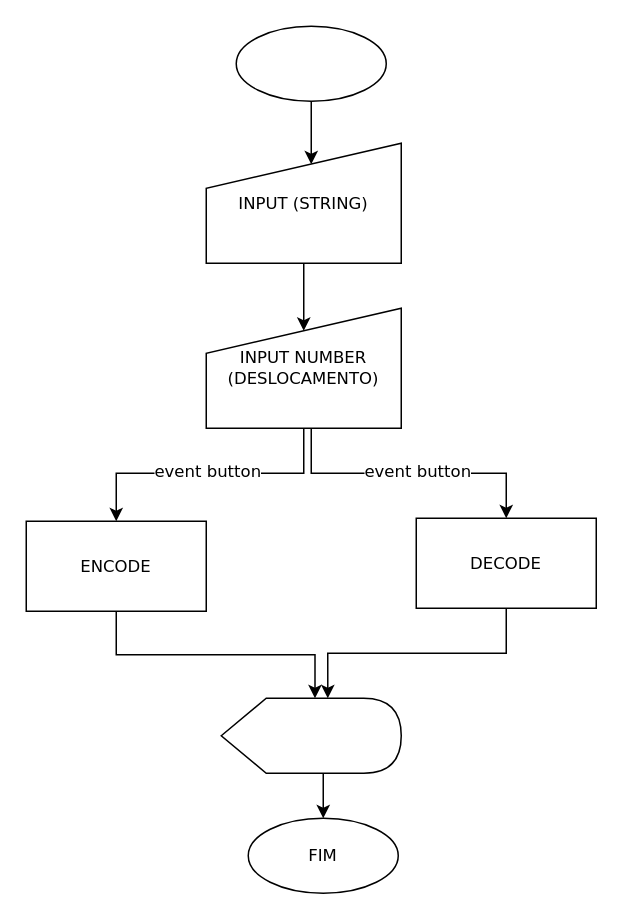
Some shapes in this 623 by 920 pixel diagram are drawn without their labels. Here are the shapes that lost their labels. From the top down, the box of each, then its label:
(235, 25, 386, 101): INICIO
(220, 697, 401, 773): EXIBE NA TELA
